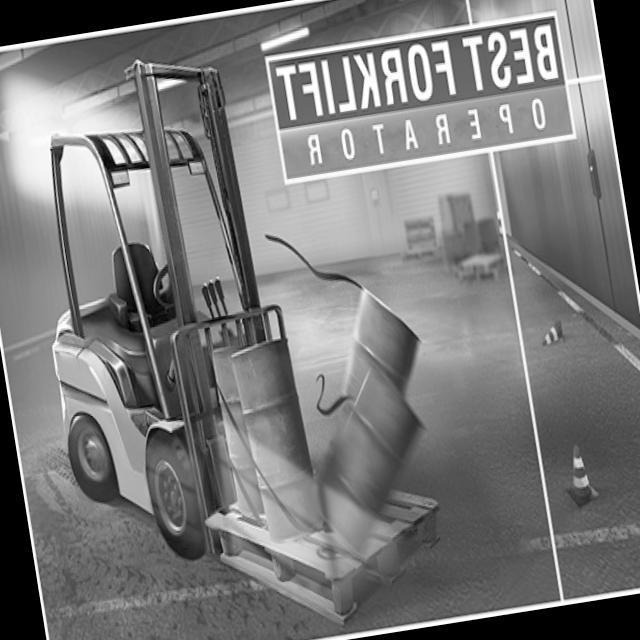forklift: (7, 73, 298, 584)
